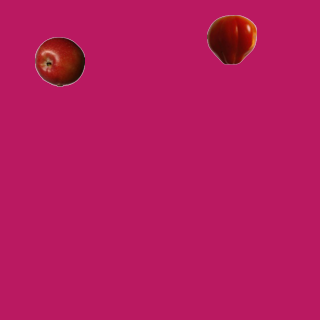Apple Braeburn: (34, 36, 84, 86)
Tomato 1: (206, 14, 256, 64)
